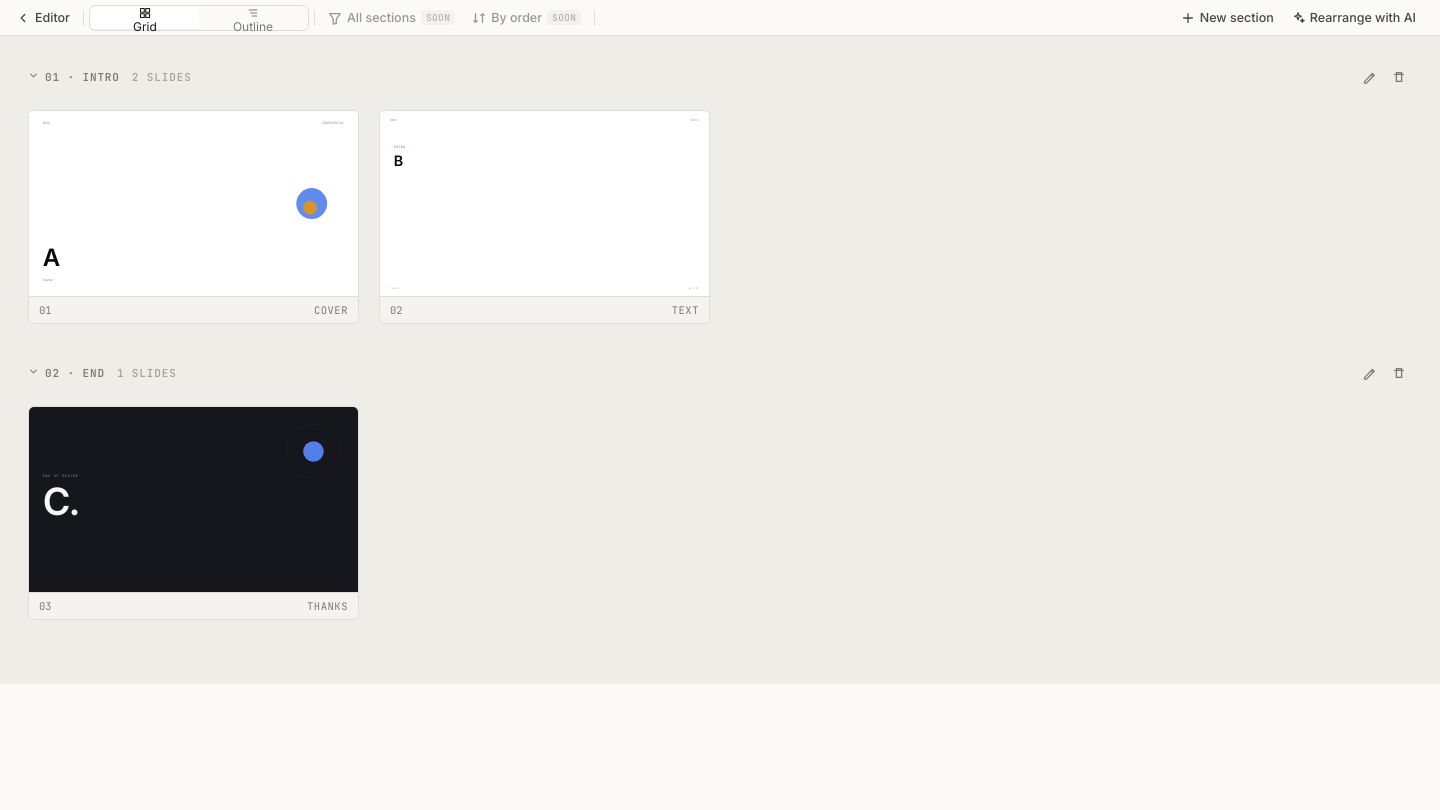
Test: SorterView — Rearrange with AI › surfaces a usable-order message (and makes no deck change) when the model returns null
Click the button "Rearrange with AI" at x=1353, y=18, box top-left (1283, 4), bottom-right (1424, 30)
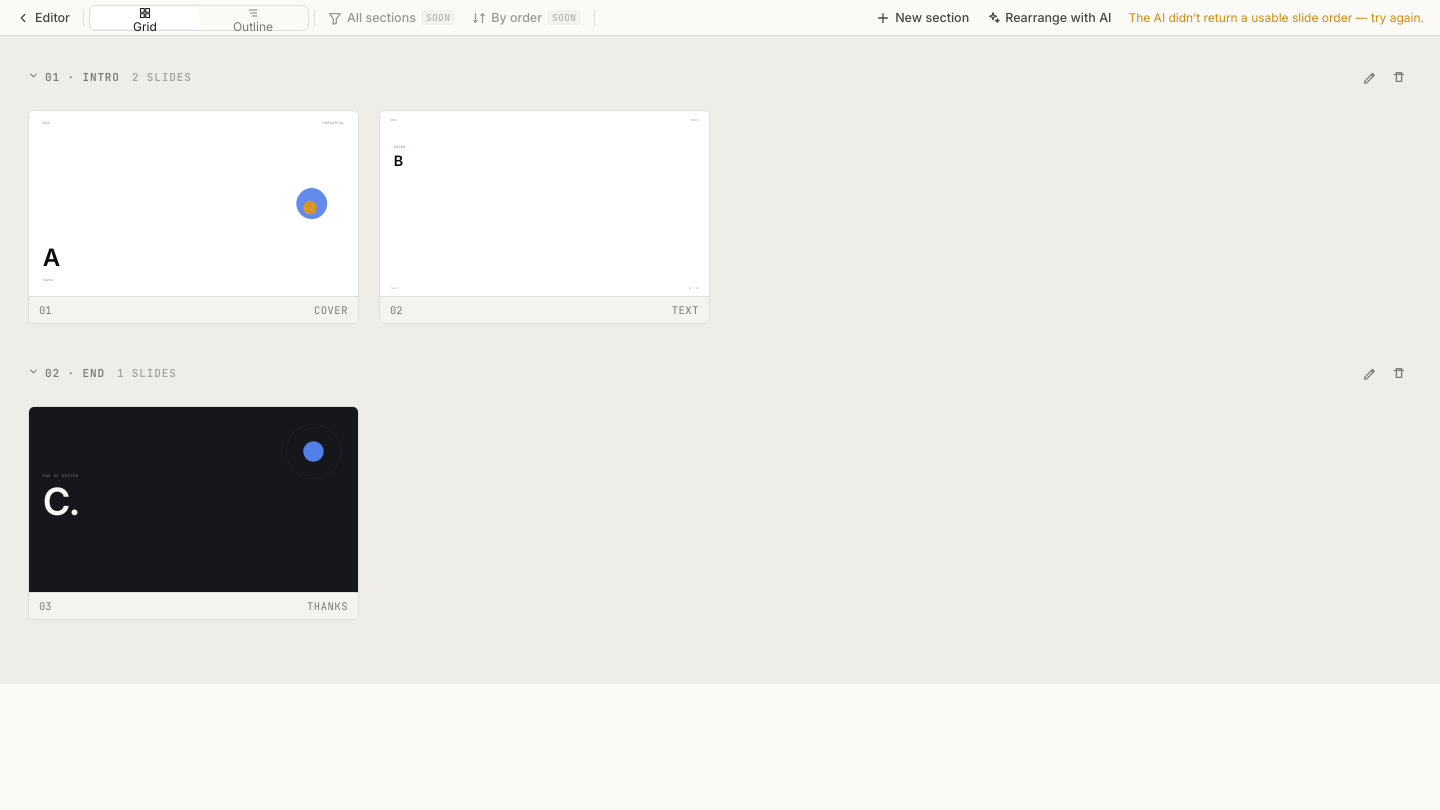
Expected: the text "The AI didn’t return a usable slide order — try again." is shown, top-left (1128, 10), bottom-right (1424, 25)
